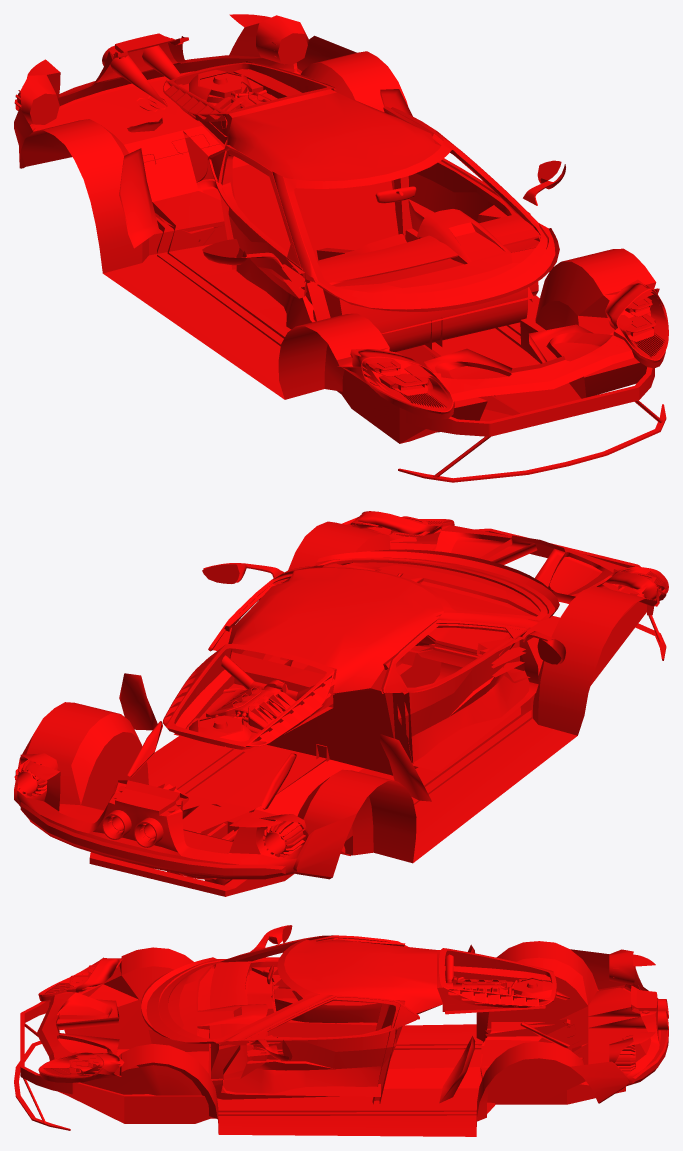
The model's file is FordGT_Chassis_Trim.fbx.
The picture shows the model from 3 angles, top to bottom: view 1: azimuth 30°, elevation 25°; view 2: azimuth 150°, elevation 25°; view 3: azimuth 270°, elevation 25°; orthographic projection. The views are drawn at different scales.
Parts seen in each view (by area): view 1: FordGT_Chassis_Trim; view 2: FordGT_Chassis_Trim; view 3: FordGT_Chassis_Trim.
Part boxes in pixels (x1,y1,x2,y2): FordGT_Chassis_Trim: (14,14,668,482); FordGT_Chassis_Trim: (14,511,668,896); FordGT_Chassis_Trim: (14,925,668,1136).
Bounding box in the file's own units: 214 × 98.44 × 452.
